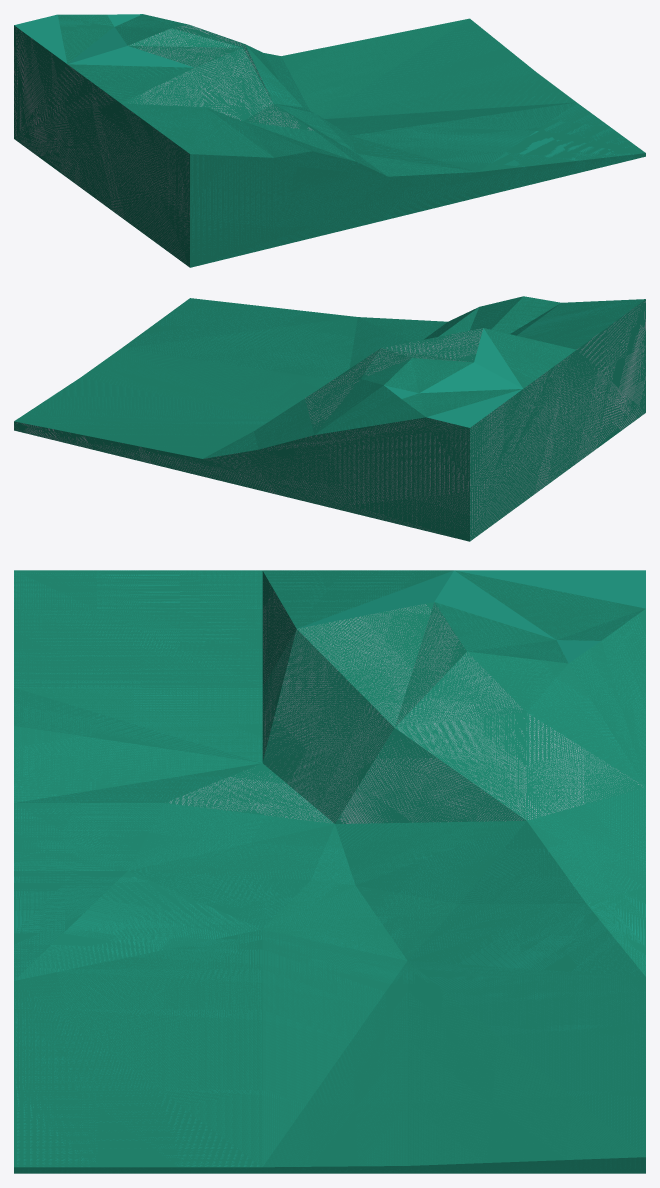
The model's file is two.dae.
3 renders of one model, top to bottom at view 1: azimuth 30°, elevation 25°; view 2: azimuth 150°, elevation 25°; view 3: azimuth 270°, elevation 25°, orthographic. The views are drawn at different scales.
Visible parts, largest first — view 1: SketchUp (×8); view 2: SketchUp (×8); view 3: SketchUp (×7).
Part boxes in pixels (box(x1,y1,x2,y2)): SketchUp (×8): box(14, 14, 645, 267); SketchUp (×8): box(14, 296, 645, 541); SketchUp (×7): box(14, 570, 645, 1173).
Size of the model in its own units: 2761 by 1847 by 711.
